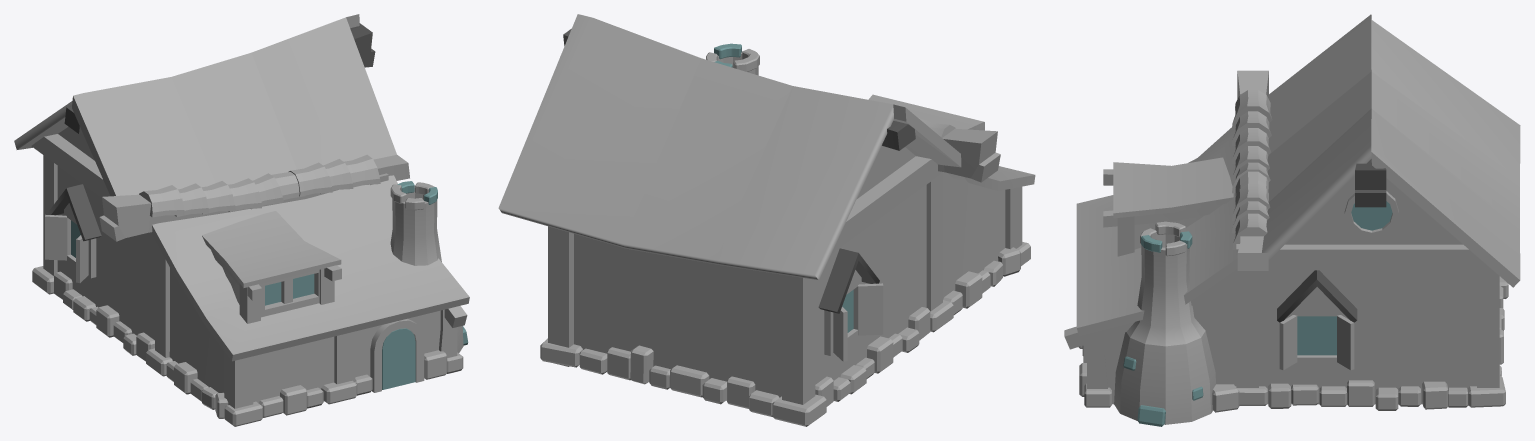
The model's file is House.fbx.
The picture shows the model from 3 angles, left to right: view 1: azimuth 30°, elevation 25°; view 2: azimuth 150°, elevation 25°; view 3: azimuth 270°, elevation 25°; orthographic projection. The views are drawn at different scales.
Parts seen in each view (by area): view 1: Roof1, RoofMain, Walls, Pillars1, Shingles, Stones, Stove, Windows, Door, LightStones, Roof2; view 2: Roof2, Walls, Pillars1, Stones, Windows, LightStones, RoofMain, Roof1, Stove; view 3: Walls, Roof2, RoofMain, Pillars1, Roof1, Stove, Windows, Shingles, Stones, LightStones.
Boxes of the visible parts, x1,y1,x2,y2 form: Roof1: (72,17,396,196); RoofMain: (151,175,469,361); Walls: (57,126,440,402); Pillars1: (31,134,467,408); Shingles: (139,154,380,217); Stones: (32,266,446,426); Stove: (390,181,468,352); Windows: (45,184,101,282); Door: (370,318,424,392); LightStones: (54,271,463,415); Roof2: (14,14,375,149); Roof2: (498,14,915,280); Walls: (574,146,1005,400); Pillars1: (548,122,1022,404); Stones: (540,242,1030,426); Windows: (818,248,883,361); LightStones: (579,270,990,416); RoofMain: (868,94,1035,190); Roof1: (893,104,961,167); Stove: (706,43,759,75); Walls: (1104,175,1476,404); Roof2: (1355,20,1520,287); RoofMain: (1076,127,1237,335); Pillars1: (1064,70,1499,388); Roof1: (1262,14,1371,259); Stove: (1114,221,1215,426); Windows: (1277,191,1398,370); Shingles: (1231,90,1272,249); Stones: (1078,276,1508,412); LightStones: (1084,285,1503,410).
Bounding box in the file's own units: 23.16 × 17.75 × 26.88.
